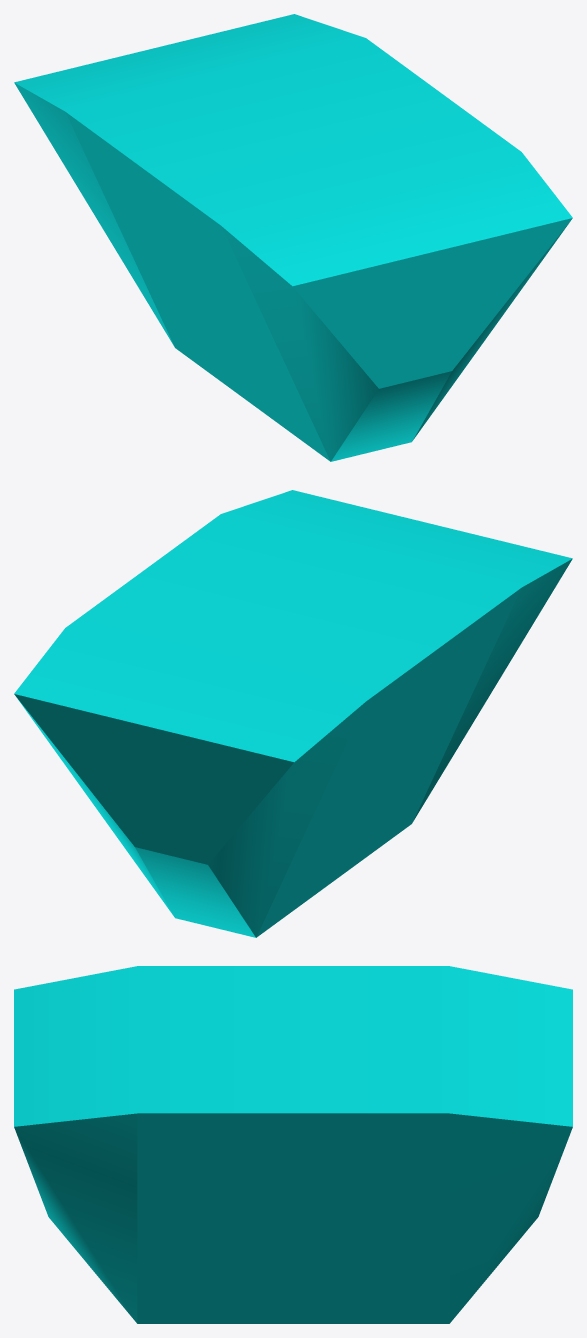
File: SM_Bld_Wall_Door_02_Skull_01_Collision.fbx
The picture shows the model from 3 angles, top to bottom: view 1: azimuth 30°, elevation 25°; view 2: azimuth 150°, elevation 25°; view 3: azimuth 270°, elevation 25°; orthographic projection.
Visible parts, largest first — view 1: SM_Bld_Wall_Door_02_Skull_01_Collision; view 2: SM_Bld_Wall_Door_02_Skull_01_Collision; view 3: SM_Bld_Wall_Door_02_Skull_01_Collision.
Boxes of the visible parts, x1,y1,x2,y2 form: SM_Bld_Wall_Door_02_Skull_01_Collision: (14,14,572,461); SM_Bld_Wall_Door_02_Skull_01_Collision: (14,490,572,937); SM_Bld_Wall_Door_02_Skull_01_Collision: (14,966,572,1323).
Bounding box in the file's own units: 82.98 × 69.38 × 133.
